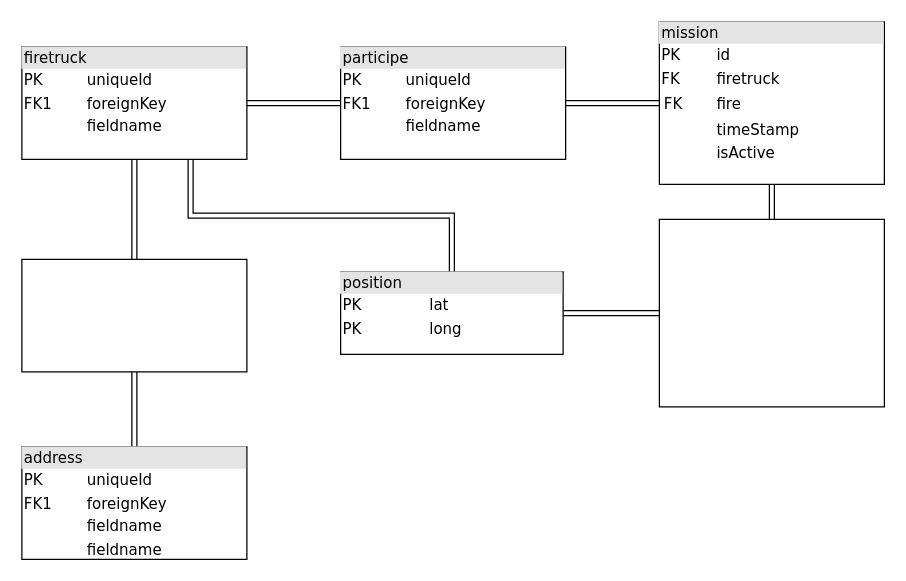
Some shapes in this 906 by 581 pixel diagram are drawn without their labels. Here are the shapes that lost their labels. From the top down, the centre of each, then its label:
At (134,315): "station PK uniqueId FK1 foreignKey fieldname".
At (771,312): "fire PK, FK position PK date intensity".
